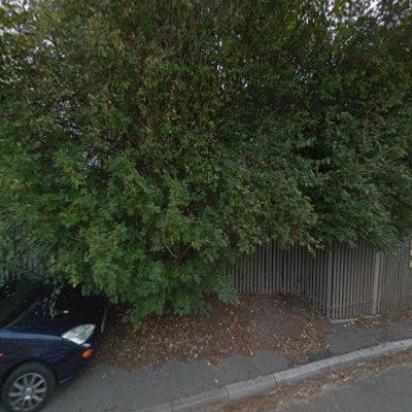stationary-car-onstreet: (0, 258, 112, 412)
